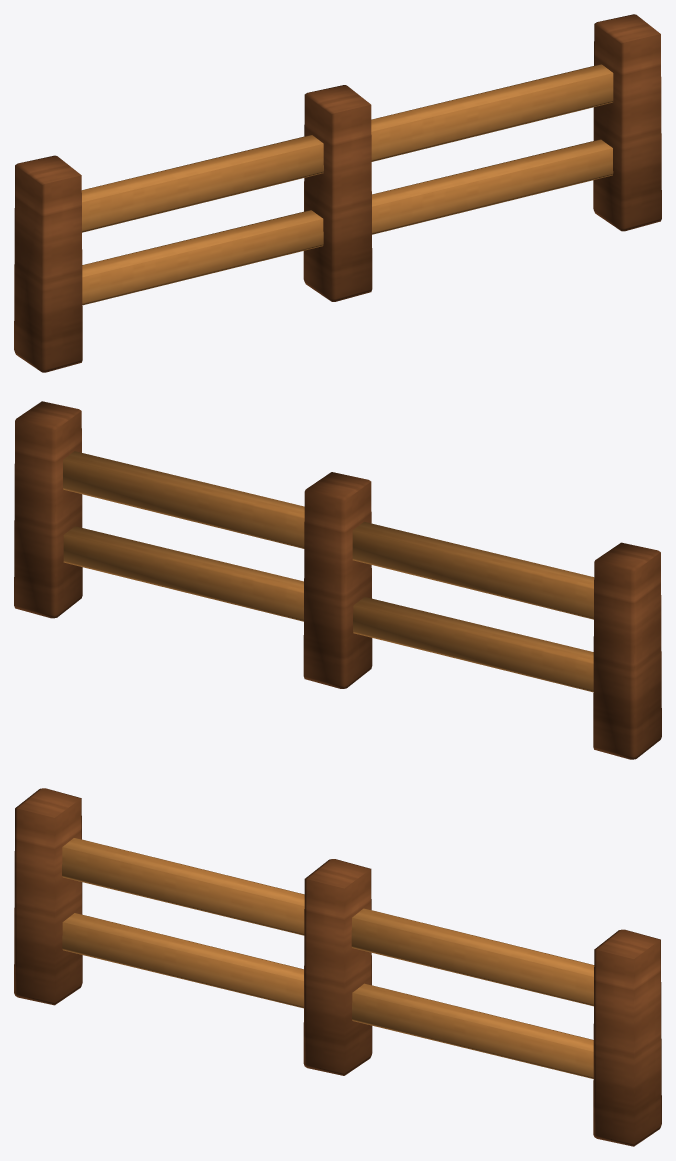
The model's file is 29_fence_long_brown.glb.
3 views of the same model, one above another, from view 1: azimuth 30°, elevation 25°; view 2: azimuth 150°, elevation 25°; view 3: azimuth 330°, elevation 25° (orthographic).
Visible parts, largest first — view 1: Post_0, Post_1, Post_2, RailUpper_1, RailUpper_0, RailLower_0, RailLower_1; view 2: Post_0, Post_1, Post_2, RailUpper_1, RailUpper_0, RailLower_0, RailLower_1; view 3: Post_2, Post_1, Post_0, RailUpper_0, RailUpper_1, RailLower_1, RailLower_0.
Part boxes in pixels (x1=…): Post_0: x1=14, y1=155, x2=82, y2=372; Post_1: x1=303, y1=85, x2=372, y2=301; Post_2: x1=593, y1=14, x2=661, y2=231; RailUpper_1: x1=371, y1=64, x2=613, y2=161; RailUpper_0: x1=81, y1=135, x2=323, y2=232; RailLower_0: x1=82, y1=210, x2=323, y2=305; RailLower_1: x1=372, y1=139, x2=613, y2=234; Post_0: x1=593, y1=542, x2=661, y2=759; Post_1: x1=303, y1=472, x2=372, y2=688; Post_2: x1=14, y1=401, x2=82, y2=618; RailUpper_1: x1=63, y1=451, x2=304, y2=548; RailUpper_0: x1=352, y1=522, x2=594, y2=619; RailLower_0: x1=353, y1=597, x2=593, y2=692; RailLower_1: x1=63, y1=526, x2=303, y2=621; Post_2: x1=593, y1=929, x2=661, y2=1146; Post_1: x1=303, y1=859, x2=372, y2=1075; Post_0: x1=14, y1=788, x2=82, y2=1005; RailUpper_0: x1=62, y1=838, x2=304, y2=935; RailUpper_1: x1=351, y1=908, x2=594, y2=1006; RailLower_1: x1=352, y1=983, x2=593, y2=1078; RailLower_0: x1=62, y1=913, x2=303, y2=1008.
Bounding box in the file's own units: 1.76 × 0.52 × 0.145.
Materials: 2 (2 with a texture image).
